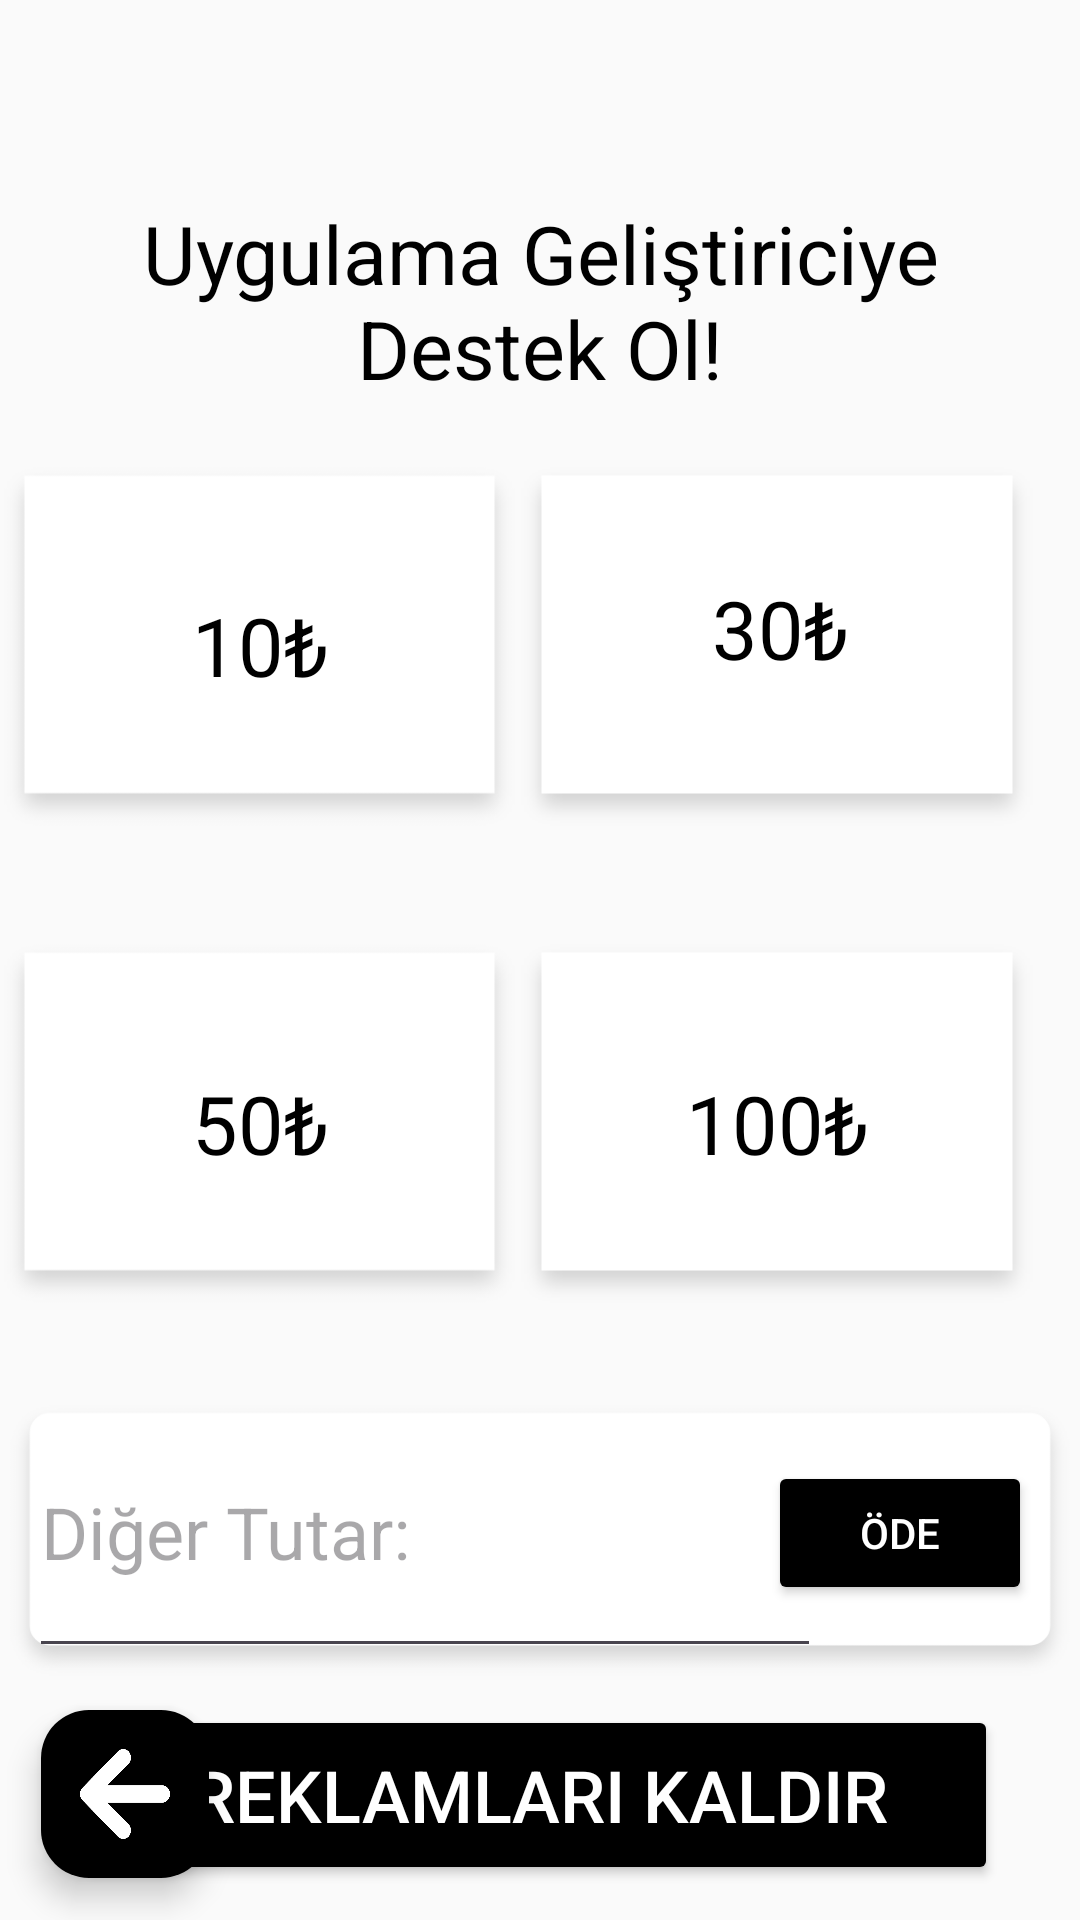

Screen size 1080 × 1920. Icon name, then its center in pixels as (x=x, y=y):
back: (x=125, y=1794)
